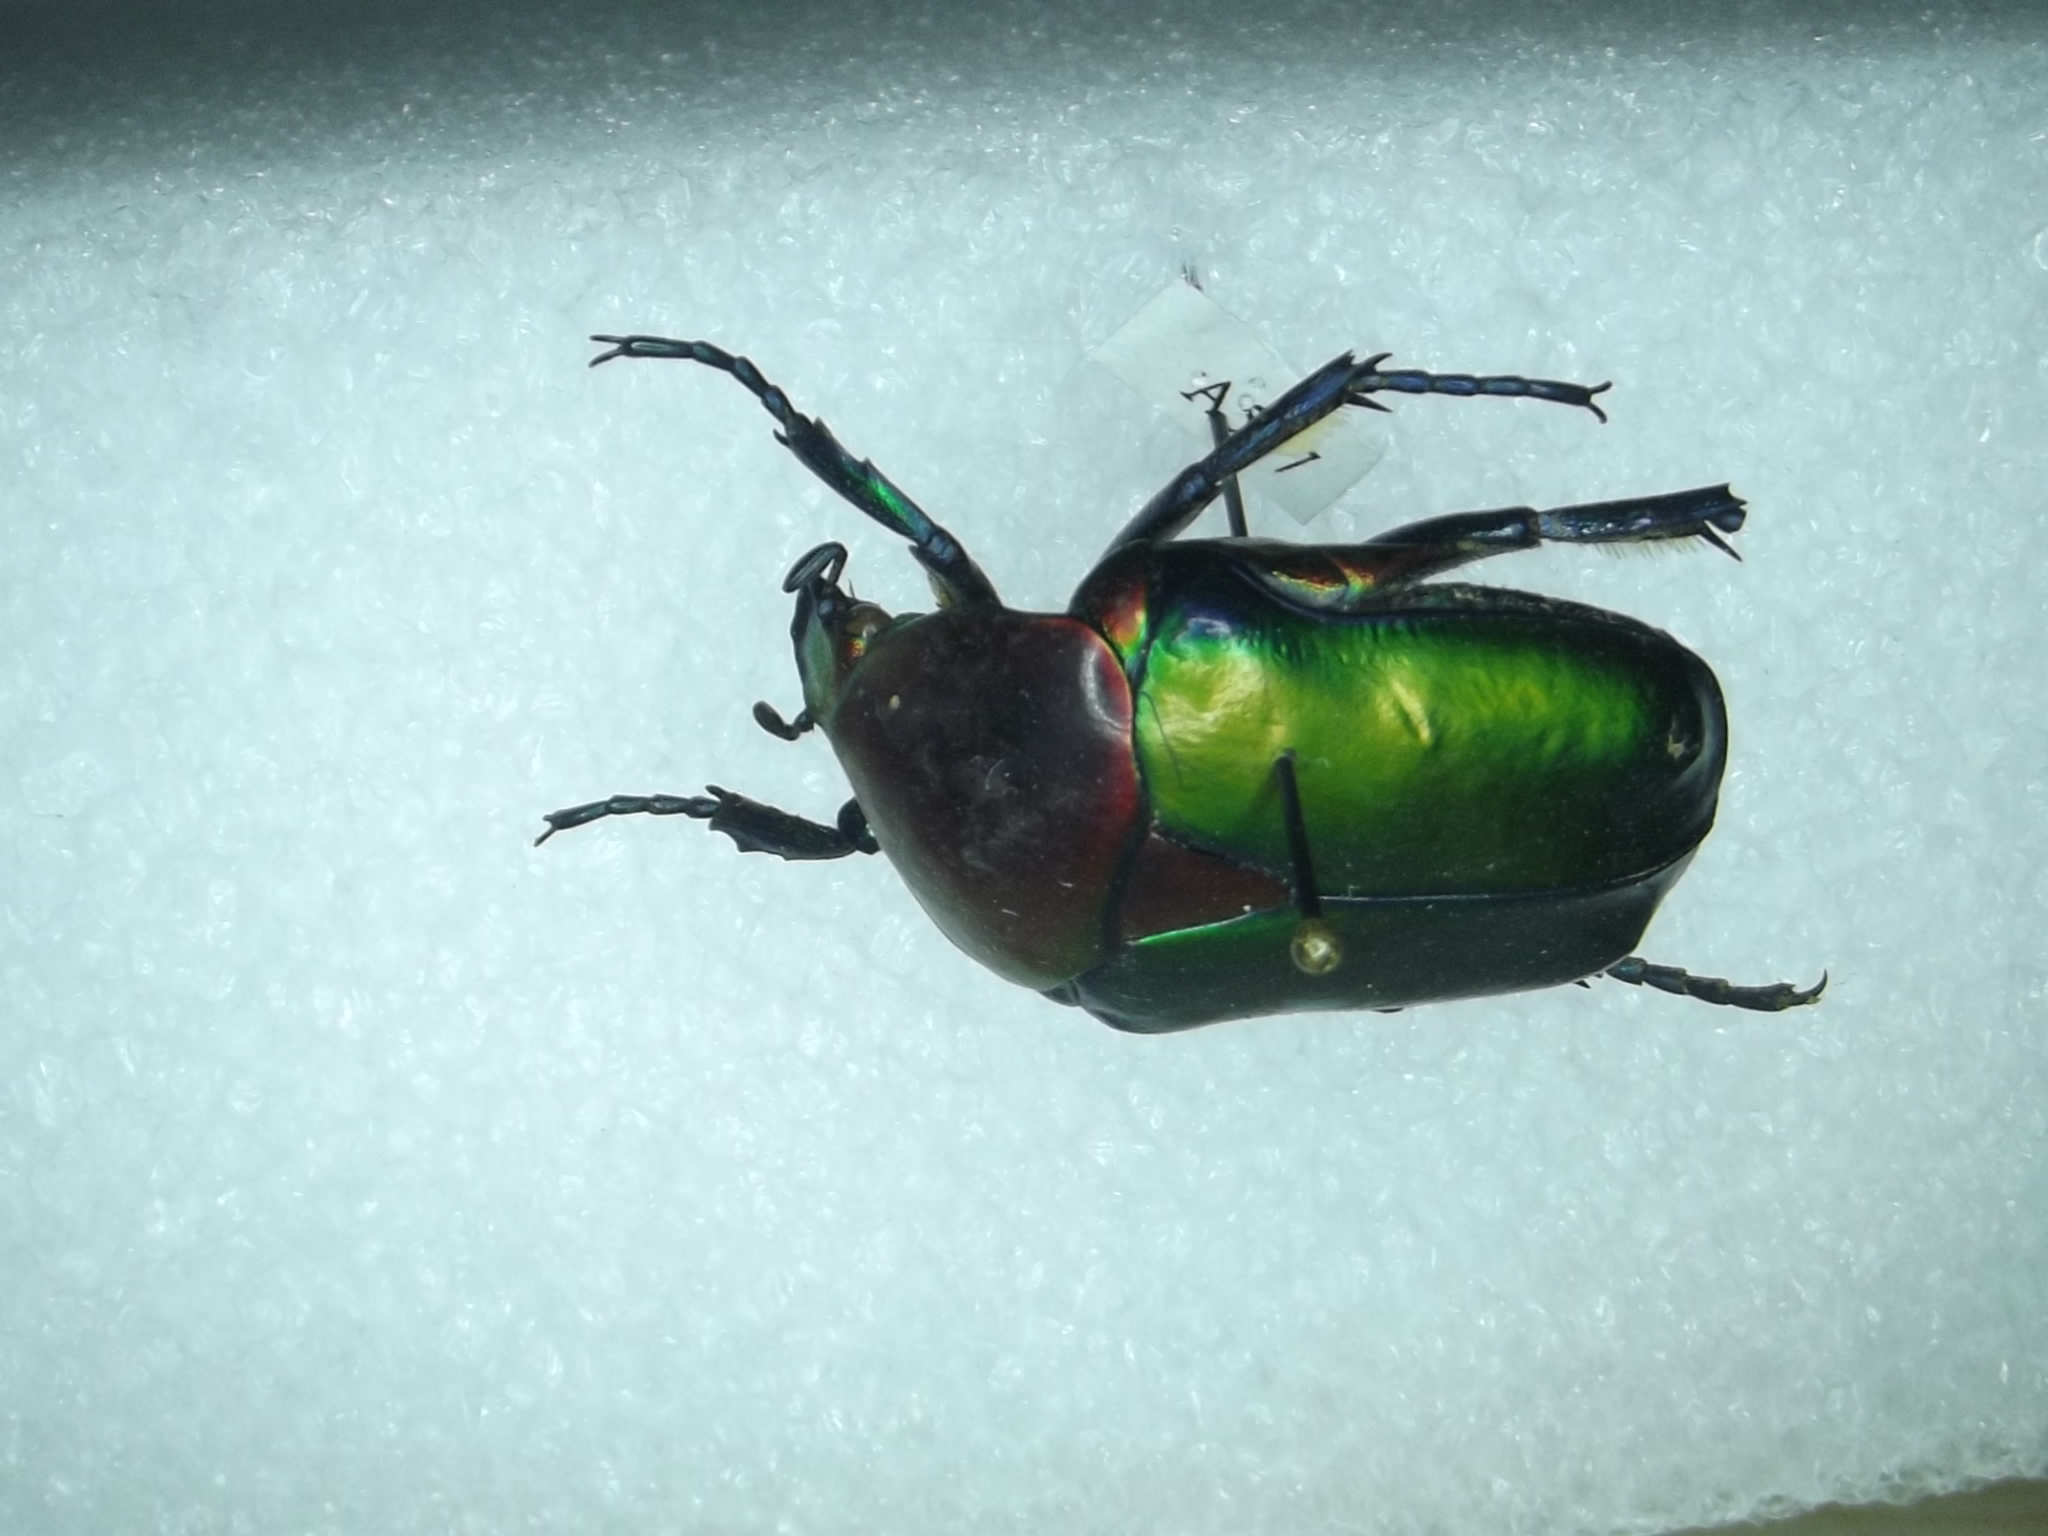Protaetia_speciosa_jousseliniw: (484, 302, 1843, 1055)
